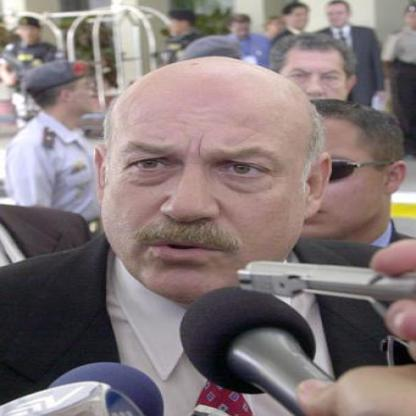face: (96, 59, 317, 301), (265, 106, 392, 240), (278, 37, 352, 124), (327, 2, 353, 28), (290, 6, 312, 29), (23, 21, 42, 43), (234, 17, 252, 38)
